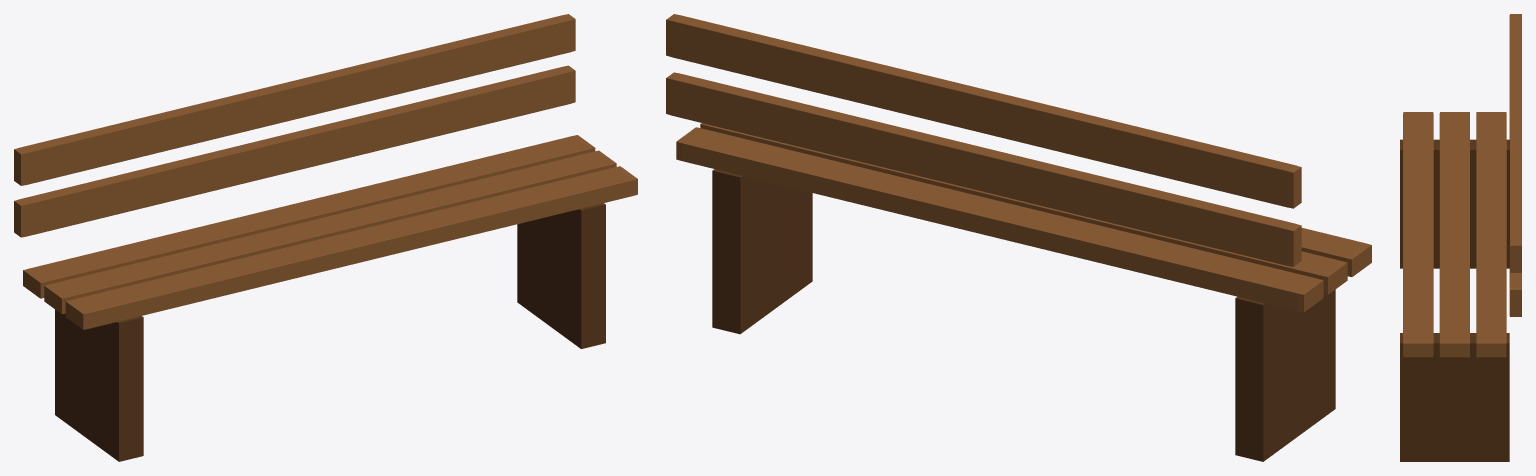
File: bench.glb
3 renders of one model, left to right at view 1: azimuth 30°, elevation 25°; view 2: azimuth 150°, elevation 25°; view 3: azimuth 270°, elevation 25°, orthographic. The views are drawn at different scales.
Visible parts, largest first — view 1: Cube; view 2: Cube; view 3: Cube.
Part boxes in pixels (box(x1,y1,x2,y2)): Cube: box(14, 14, 637, 461); Cube: box(666, 14, 1371, 461); Cube: box(1400, 14, 1521, 461).
Bounding box in the file's own units: 1.8 × 0.835 × 0.4.
